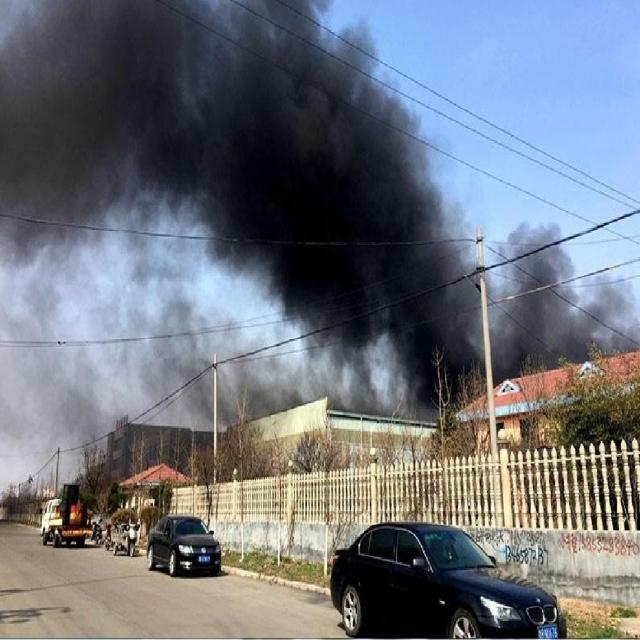Smoke: (1, 1, 640, 458)
